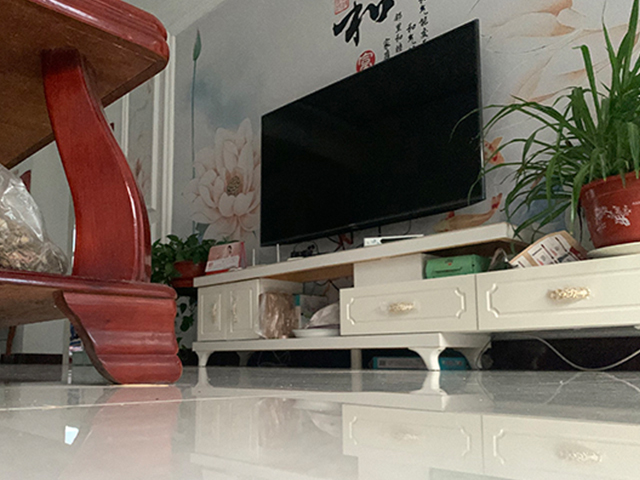cabinet: (191, 220, 640, 373)
table: (1, 1, 182, 385)
